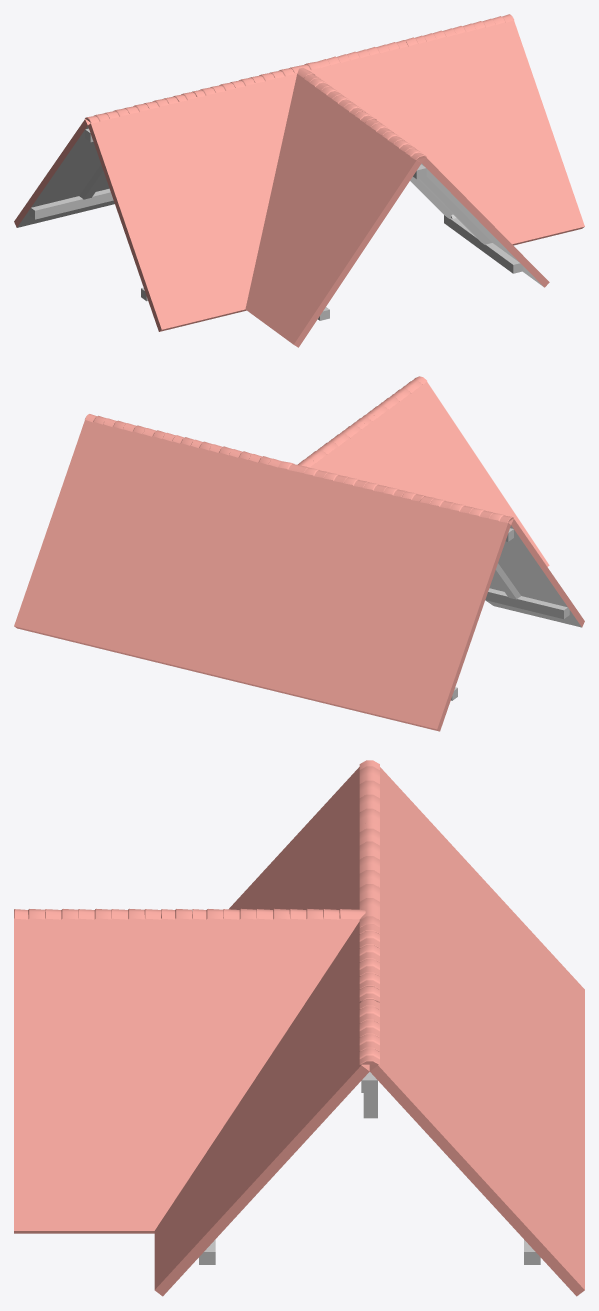
File: dfk_roof_small_intersect_B.fbx
The picture shows the model from 3 angles, top to bottom: view 1: azimuth 30°, elevation 25°; view 2: azimuth 150°, elevation 25°; view 3: azimuth 270°, elevation 25°; orthographic projection. The views are drawn at different scales.
Parts seen in each view (by area): view 1: dfk_roof_D; view 2: dfk_roof_D; view 3: dfk_roof_D.
Boxes of the visible parts, bbox=[...] form: dfk_roof_D: bbox=[14, 14, 584, 347]; dfk_roof_D: bbox=[14, 376, 584, 731]; dfk_roof_D: bbox=[14, 760, 584, 1296].
Bounding box in the file's own units: 10 × 3.66 × 8.03.
